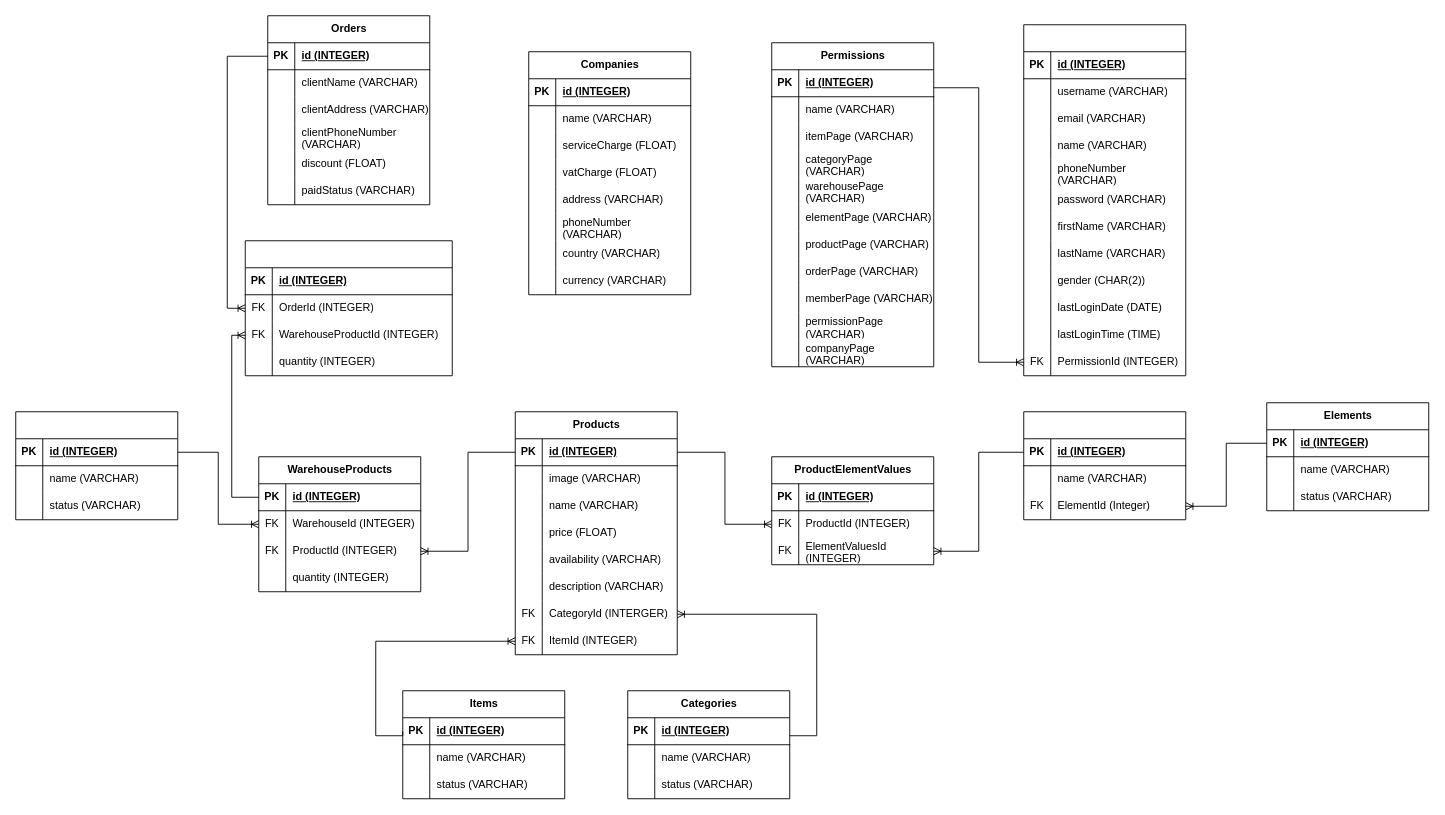
This 1445x815 diagram has some shape labels left out. Here are the shapes that lost their labels. From the top down, the box of each, then its label:
(1023, 24, 1186, 376): Members
(244, 240, 452, 376): OrderWarehouseProducts
(15, 411, 178, 520): Warehouses
(1023, 411, 1186, 520): ElementValues
